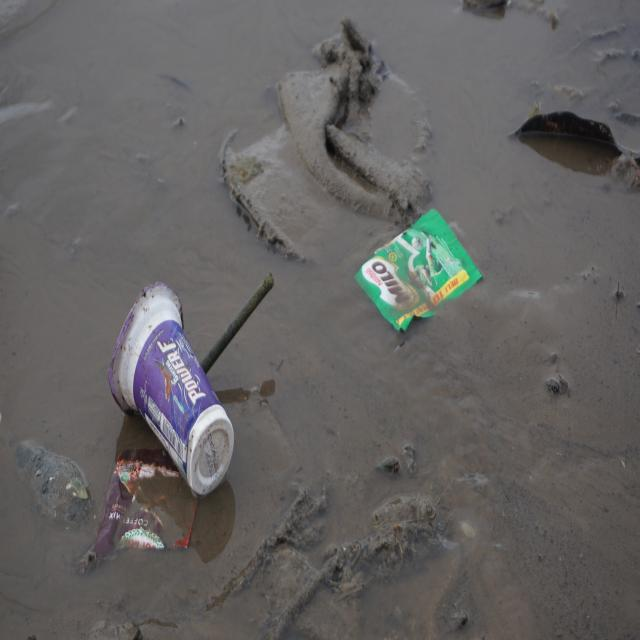Bungkus Minuman: (106, 275, 238, 503), (356, 204, 484, 335), (92, 450, 206, 558)
